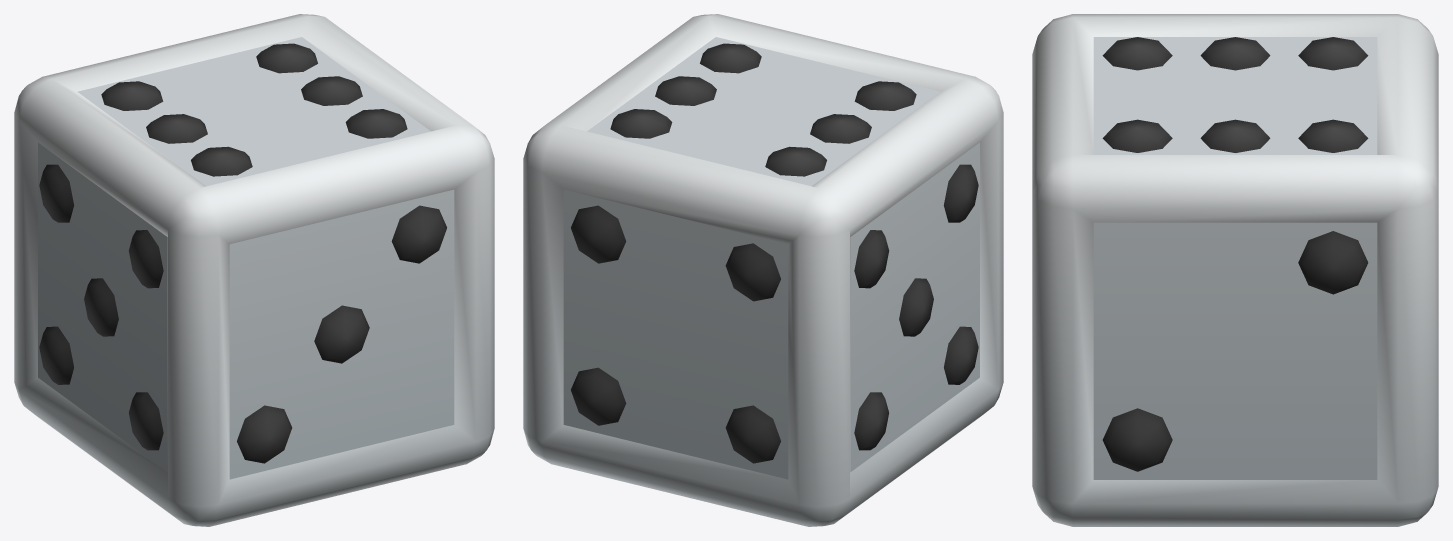
The picture shows the model from 3 angles, left to right: view 1: azimuth 30°, elevation 25°; view 2: azimuth 150°, elevation 25°; view 3: azimuth 270°, elevation 25°; orthographic projection. The views are drawn at different scales.
Parts seen in each view (by area): view 1: D6_B; view 2: D6_B; view 3: D6_B.
Boxes of the visible parts, left/top/right/bottom form: D6_B: left=14, top=14, right=494, bottom=526; D6_B: left=523, top=14, right=1003, bottom=526; D6_B: left=1032, top=14, right=1438, bottom=526.
Size of the model in its own units: 0.75 by 0.75 by 0.75.
1 material, 1 textured.
